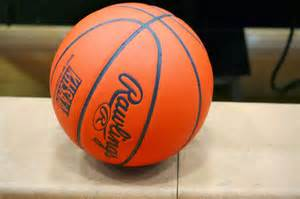basketball: (49, 3, 217, 171)
